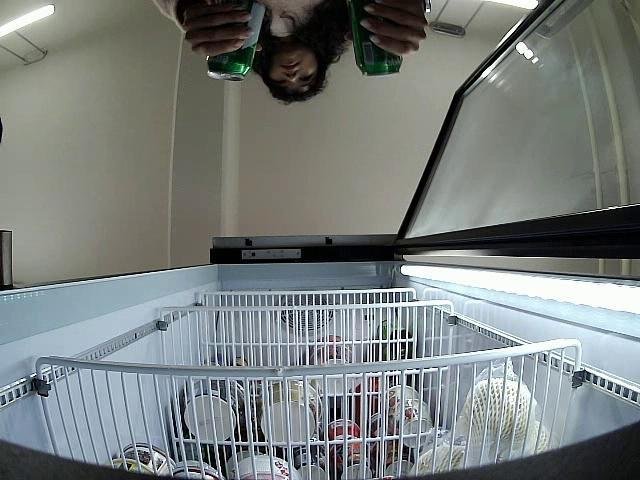12_chilsungCider: (208, 0, 266, 82), (343, 0, 402, 77)
